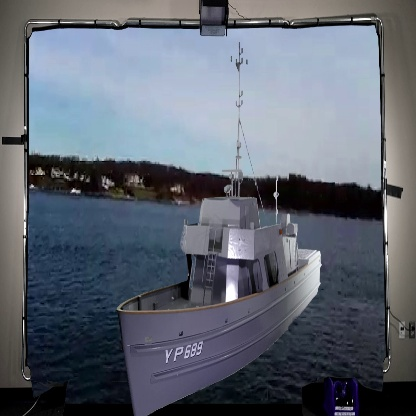YP689: (117, 50, 321, 416)
